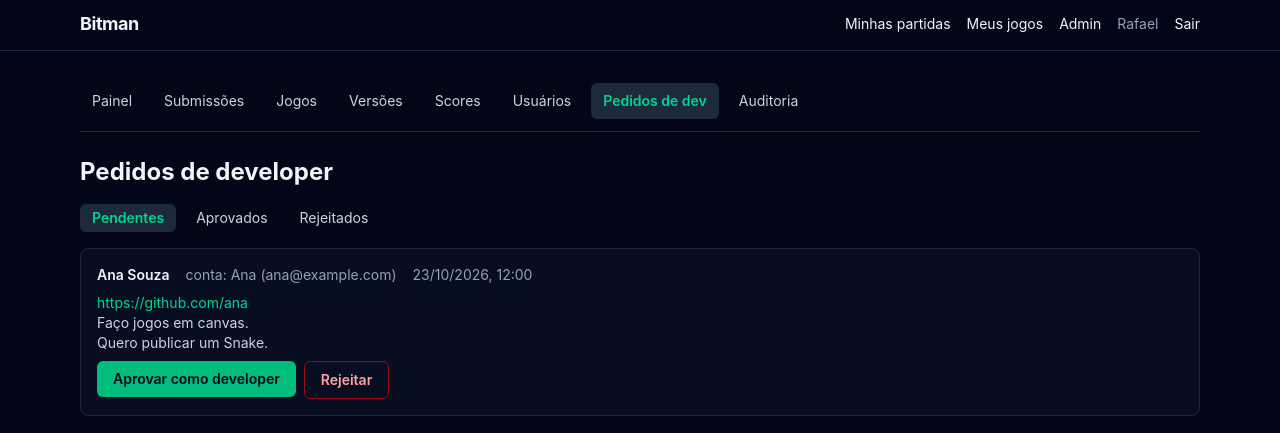
pedidos de developer (M18) › lista os pendentes com nome, GitHub e apresentação, e aprova
Check: the list item with aria-label "Pedido de Ana" shows "Quero publicar um Snake.", box [97,314,268,351]
Click the button "Aprovar como developer" at (196, 379), box [97,361,296,397]
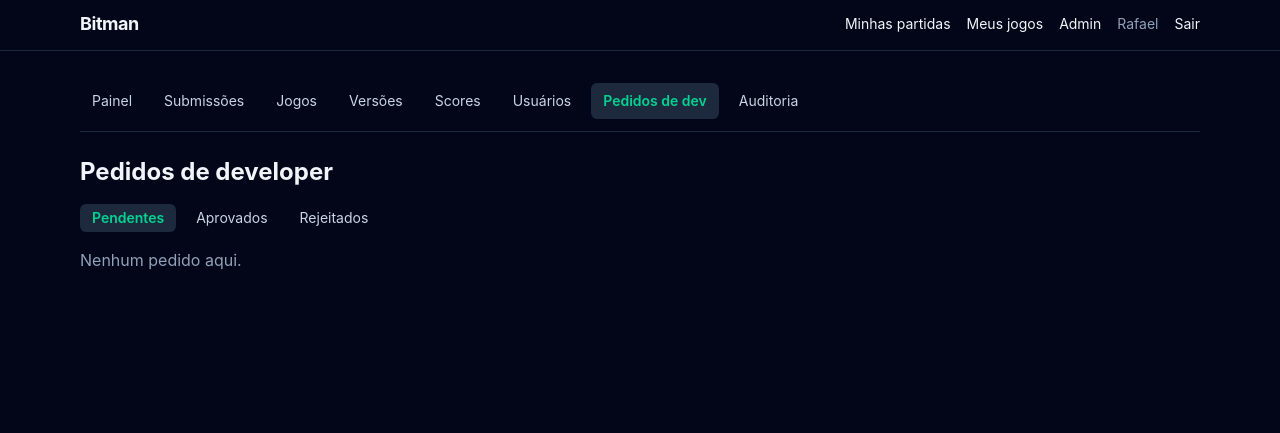
Check: the text "Nenhum pedido aqui." is shown, box [80,250,242,270]
